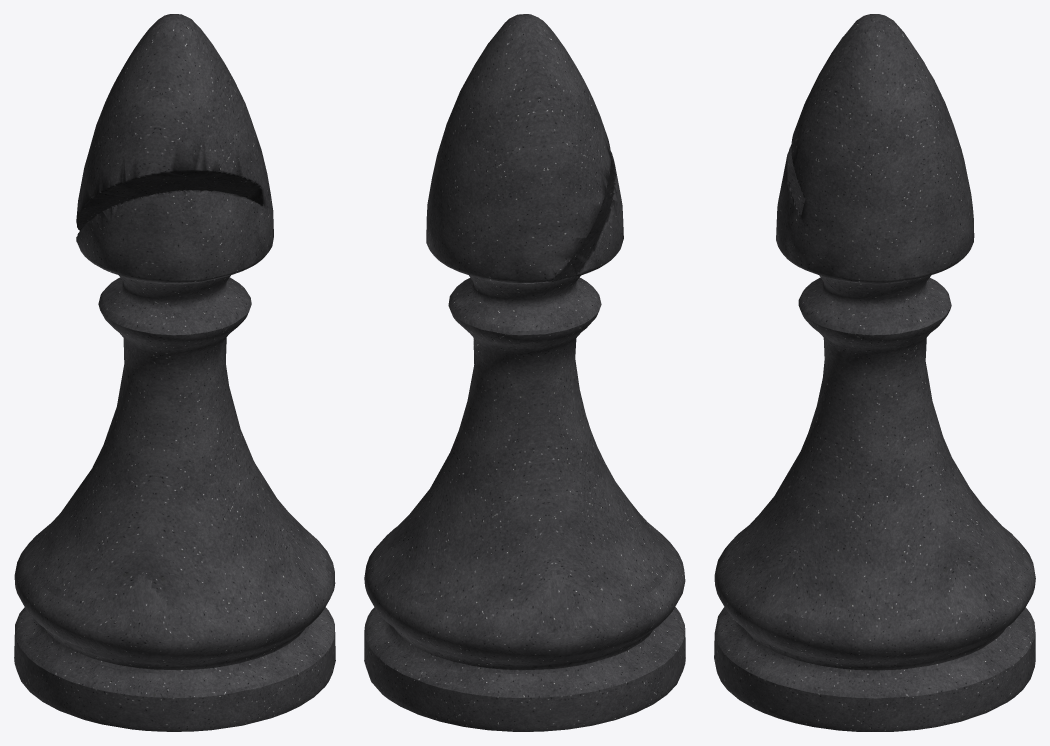
File: bishop-black.glb
The picture shows the model from 3 angles, left to right: view 1: azimuth 30°, elevation 25°; view 2: azimuth 150°, elevation 25°; view 3: azimuth 270°, elevation 25°; orthographic projection.
Parts seen in each view (by area): view 1: strelec_cerna; view 2: strelec_cerna; view 3: strelec_cerna.
Boxes of the visible parts, x1,y1,x2,y2 form: strelec_cerna: (14, 14, 335, 731); strelec_cerna: (364, 14, 685, 731); strelec_cerna: (714, 14, 1035, 731).
Bounding box in the file's own units: 0.584 × 1.32 × 0.5836.
Materials: 1 (1 with a texture image).
